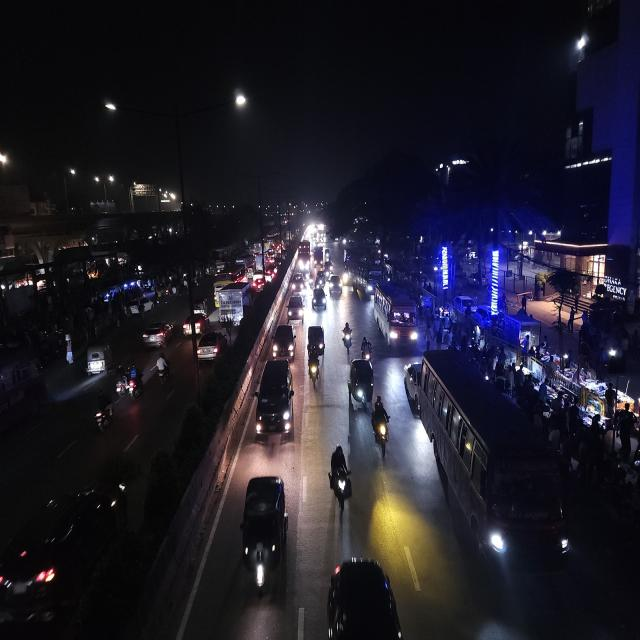bus: (423, 353, 573, 586), (373, 282, 421, 352), (571, 0, 623, 59), (353, 258, 381, 301)
car: (255, 354, 295, 444), (347, 356, 375, 411), (196, 327, 228, 366), (140, 317, 174, 350), (270, 320, 297, 360), (182, 310, 206, 338), (286, 292, 306, 322), (311, 286, 328, 315), (329, 272, 343, 301), (289, 272, 305, 294), (252, 274, 266, 292), (265, 265, 277, 283)
cng: (239, 471, 289, 603), (85, 340, 113, 378), (191, 296, 208, 316), (315, 270, 327, 288)
motorcycle: (326, 441, 354, 516), (371, 393, 391, 458), (115, 360, 142, 404), (92, 390, 116, 438), (153, 352, 171, 388), (308, 347, 322, 386), (340, 319, 354, 356), (360, 334, 372, 362)
truck: (218, 283, 252, 328), (298, 240, 312, 274)
